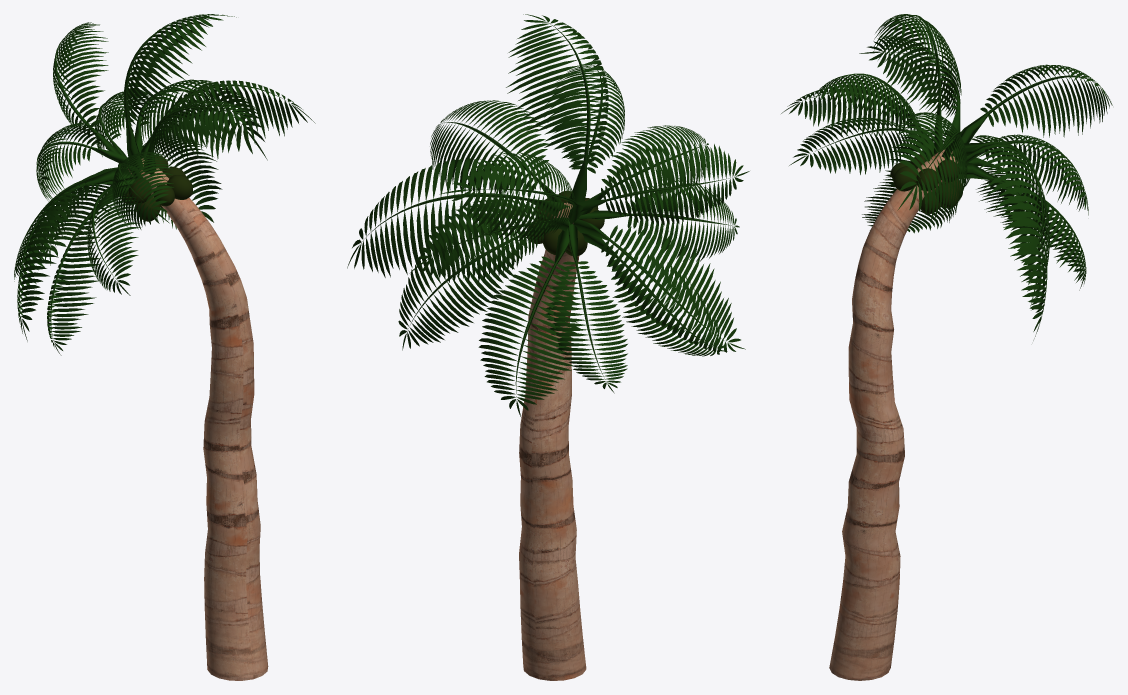
File: tree_3.obj
The picture shows the model from 3 angles, left to right: view 1: azimuth 30°, elevation 25°; view 2: azimuth 150°, elevation 25°; view 3: azimuth 270°, elevation 25°; orthographic projection. The views are drawn at different scales.
Parts seen in each view (by area): view 1: polySurface13, polySurface12 trunk3, pSphere17 polySurface6; view 2: polySurface13, polySurface12 trunk3; view 3: polySurface13, polySurface12 trunk3.
Boxes of the visible parts, bbox=[...] form: polySurface13: bbox=[14, 14, 315, 355]; polySurface12 trunk3: bbox=[128, 158, 268, 680]; pSphere17 polySurface6: bbox=[162, 175, 192, 199]; polySurface13: bbox=[347, 14, 749, 416]; polySurface12 trunk3: bbox=[519, 202, 586, 680]; polySurface13: bbox=[781, 14, 1112, 340]; polySurface12 trunk3: bbox=[829, 149, 957, 680].
Size of the model in its own units: 5.39 by 10.54 by 5.
3 materials, 2 textured.
